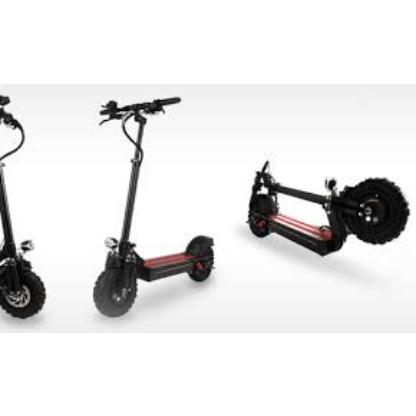bike: (92, 97, 215, 318), (247, 160, 410, 257), (0, 95, 47, 320)
